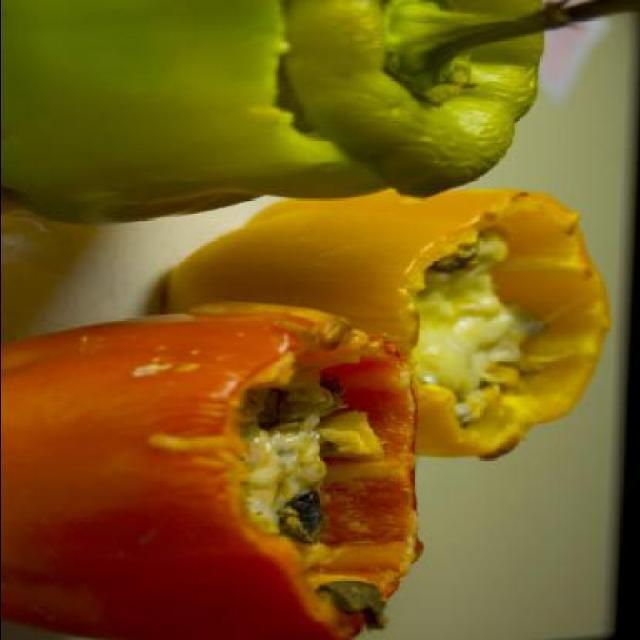Bell pepper: (2, 0, 640, 226), (1, 298, 421, 640), (163, 189, 605, 460)
